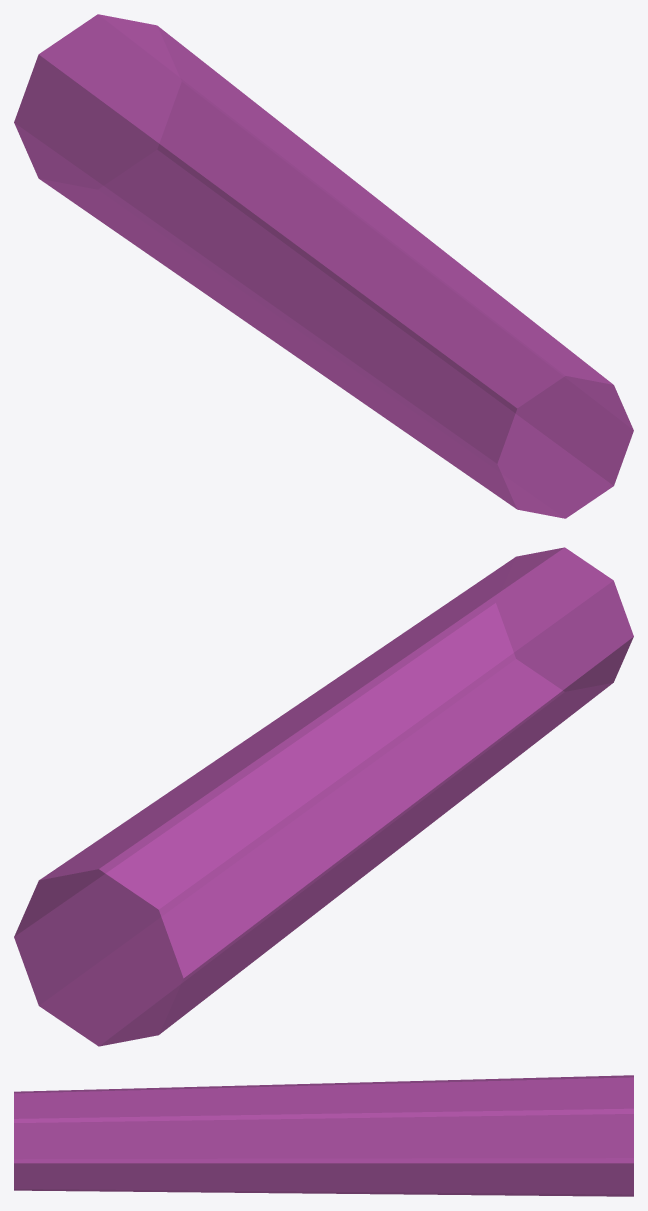
The model's file is SM_Wep_Cannon_06_Barrel_01_Collision.fbx.
3 views of the same model, one above another, from view 1: azimuth 30°, elevation 25°; view 2: azimuth 150°, elevation 25°; view 3: azimuth 270°, elevation 25° (orthographic). The views are drawn at different scales.
Parts seen in each view (by area): view 1: SM_Wep_Cannon_06_Barrel_01_Collision; view 2: SM_Wep_Cannon_06_Barrel_01_Collision; view 3: SM_Wep_Cannon_06_Barrel_01_Collision.
Boxes of the visible parts, x1=… form: SM_Wep_Cannon_06_Barrel_01_Collision: x1=14, y1=14, x2=633, y2=518; SM_Wep_Cannon_06_Barrel_01_Collision: x1=14, y1=547, x2=633, y2=1046; SM_Wep_Cannon_06_Barrel_01_Collision: x1=14, y1=1075, x2=633, y2=1196.
Bounding box in the file's own units: 46.54 × 46.54 × 223.
